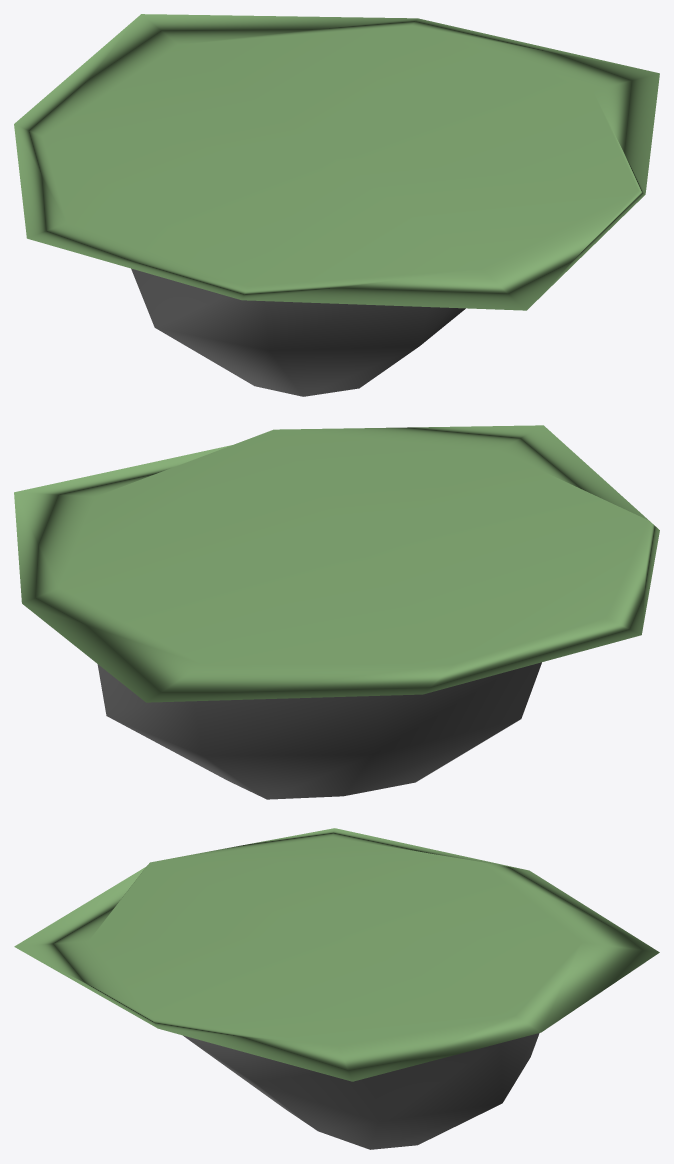
Rendered from Island.fbx.
The picture shows the model from 3 angles, top to bottom: view 1: azimuth 30°, elevation 25°; view 2: azimuth 150°, elevation 25°; view 3: azimuth 270°, elevation 25°; orthographic projection. The views are drawn at different scales.
Parts seen in each view (by area): view 1: pCube32; view 2: pCube32; view 3: pCube32.
Part boxes in pixels (box(x1,y1,x2,y2)): pCube32: box(14, 14, 659, 396); pCube32: box(14, 425, 659, 799); pCube32: box(14, 828, 659, 1149).
Size of the model in its own units: 20.55 by 6.72 by 22.11.
